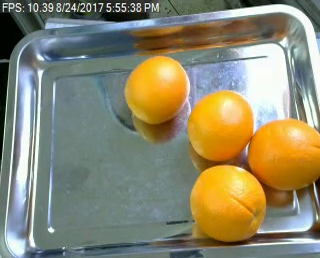Orange: (189, 163, 267, 242), (248, 118, 320, 190), (189, 89, 255, 159), (123, 55, 190, 122)
